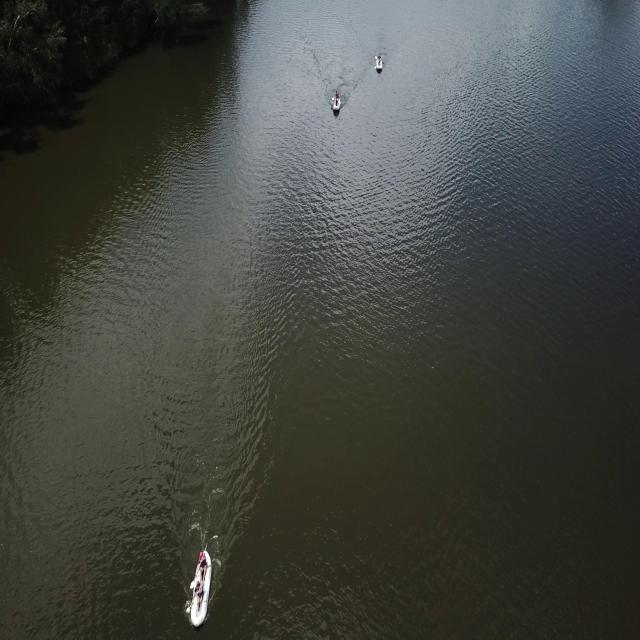kayak: (184, 541, 213, 629), (330, 90, 342, 116), (374, 52, 386, 74)
